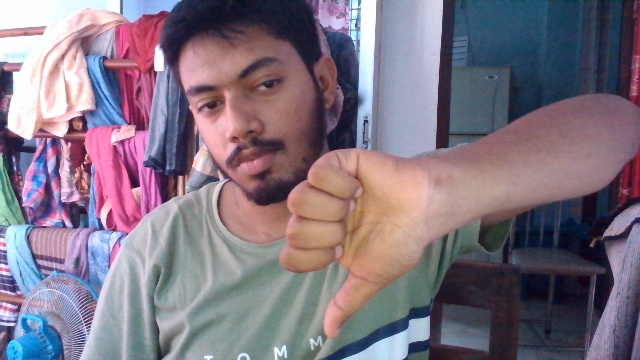no: (290, 137, 430, 328)
